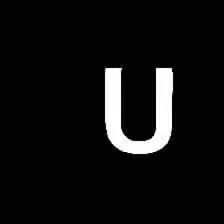LTR_U: (92, 57, 183, 162)
